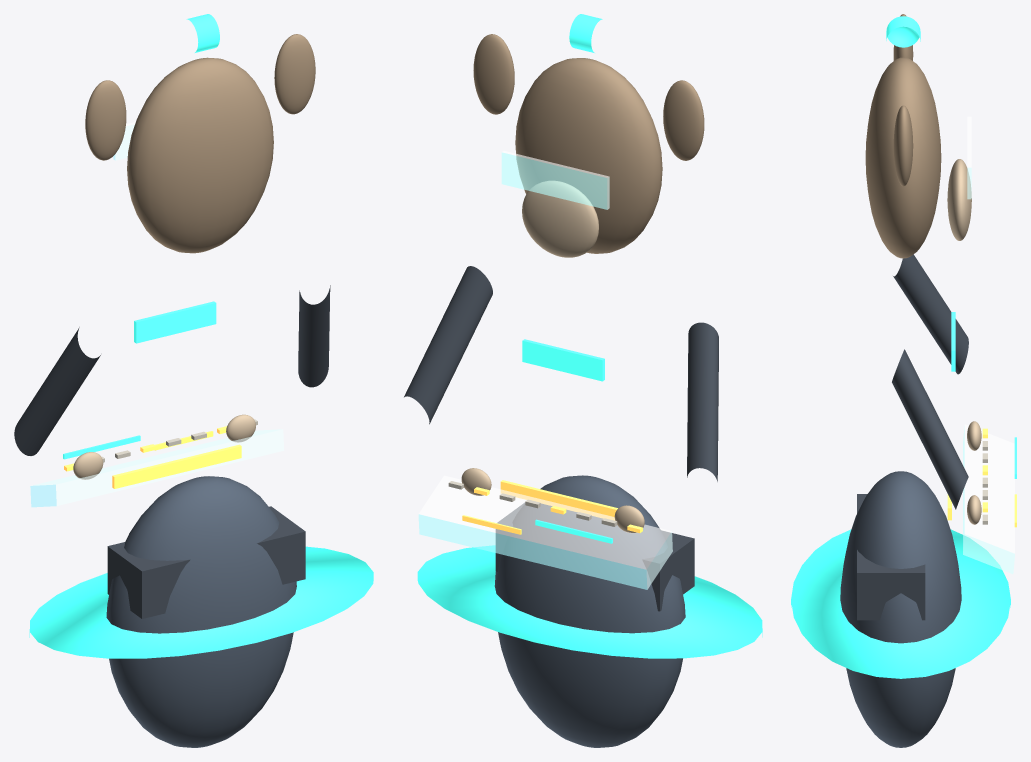
The model's file is coding-ape.glb.
The picture shows the model from 3 angles, left to right: view 1: azimuth 30°, elevation 25°; view 2: azimuth 150°, elevation 25°; view 3: azimuth 270°, elevation 25°; orthographic projection.
Visible parts, largest first — view 1: BodySuit, Head, StationHalo, SeatBase, ConsolePanel, LeftArm, LeftEar, RightEar, RightArm, ChestGlow, BeltGateLine, TopKnot (+2 smaller); view 2: BodySuit, Head, StationHalo, ConsolePanel, RightArm, Muzzle, LeftArm, Visor, SeatBase, LeftEar, RightEar, ChestGlow (+2 smaller); view 3: BodySuit, StationHalo, Head, ConsolePanel, RightArm, LeftArm, SeatBase, Muzzle, RightEar, TopKnot, Visor.
Part boxes in pixels (box(x1,y1,x2,y2)): BodySuit: box(106, 476, 296, 747); Head: box(127, 57, 273, 253); StationHalo: box(29, 546, 373, 658); SeatBase: box(107, 506, 305, 618); ConsolePanel: box(30, 429, 283, 507); LeftArm: box(14, 327, 100, 455); LeftEar: box(85, 80, 126, 160); RightEar: box(274, 34, 315, 114); RightArm: box(298, 285, 330, 387); ChestGlow: box(134, 301, 216, 343); BeltGateLine: box(112, 444, 241, 488); TopKnot: box(186, 14, 219, 52); BodySuit: box(494, 475, 685, 747); Head: box(515, 58, 662, 253); StationHalo: box(417, 545, 762, 658); ConsolePanel: box(418, 475, 672, 589); RightArm: box(404, 266, 492, 424); Muzzle: box(522, 181, 598, 257); LeftArm: box(687, 322, 718, 481); Visor: box(501, 151, 609, 209); SeatBase: box(495, 503, 694, 611); LeftEar: box(663, 80, 704, 160); RightEar: box(473, 34, 514, 114); ChestGlow: box(522, 339, 604, 381); BodySuit: box(840, 471, 961, 747); StationHalo: box(791, 529, 1010, 678); Head: box(865, 57, 941, 258); ConsolePanel: box(963, 424, 1014, 573); RightArm: box(892, 349, 968, 509); LeftArm: box(893, 254, 968, 374); SeatBase: box(857, 494, 925, 620); Muzzle: box(947, 159, 971, 240); RightEar: box(893, 105, 913, 186); TopKnot: box(886, 16, 920, 47); Visor: box(967, 116, 971, 199).
Bounding box in the file's own units: 1.66 × 3.51 × 0.9985.
